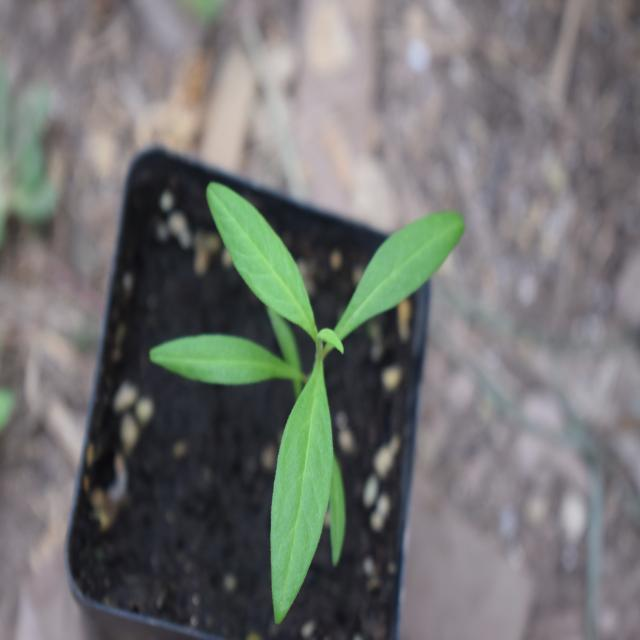white_smart_weed: (181, 201, 448, 582)
